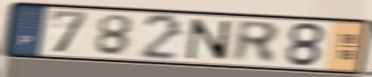2: (139, 12, 189, 62)
7: (49, 9, 91, 56)
8: (283, 21, 326, 68), (92, 14, 136, 57)
N: (185, 17, 233, 63)
R: (231, 18, 282, 65)
